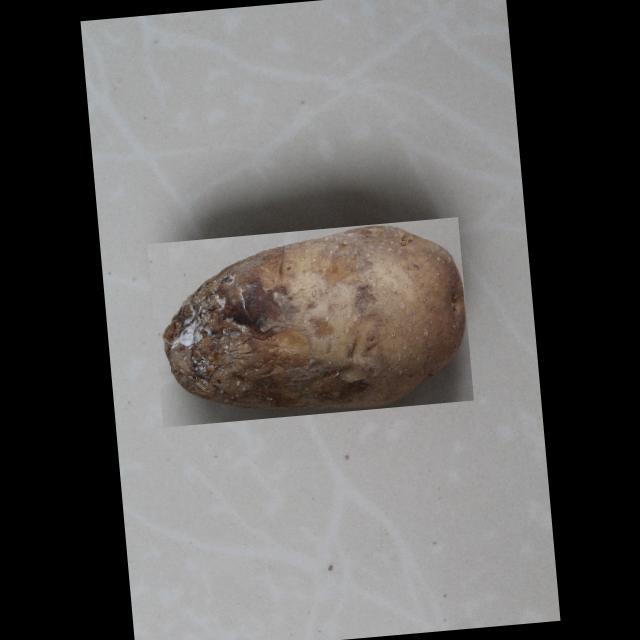Diseased-fungal potato: (146, 216, 474, 426)
